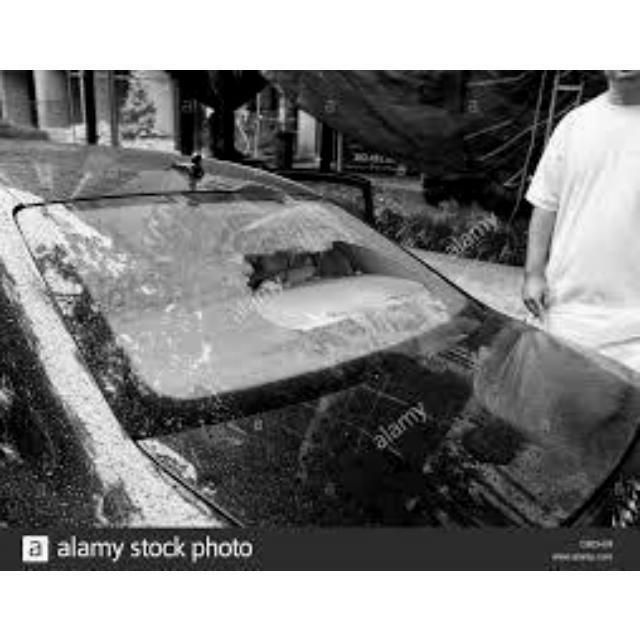Rear-windscreen-Damage: (0, 158, 514, 425)
